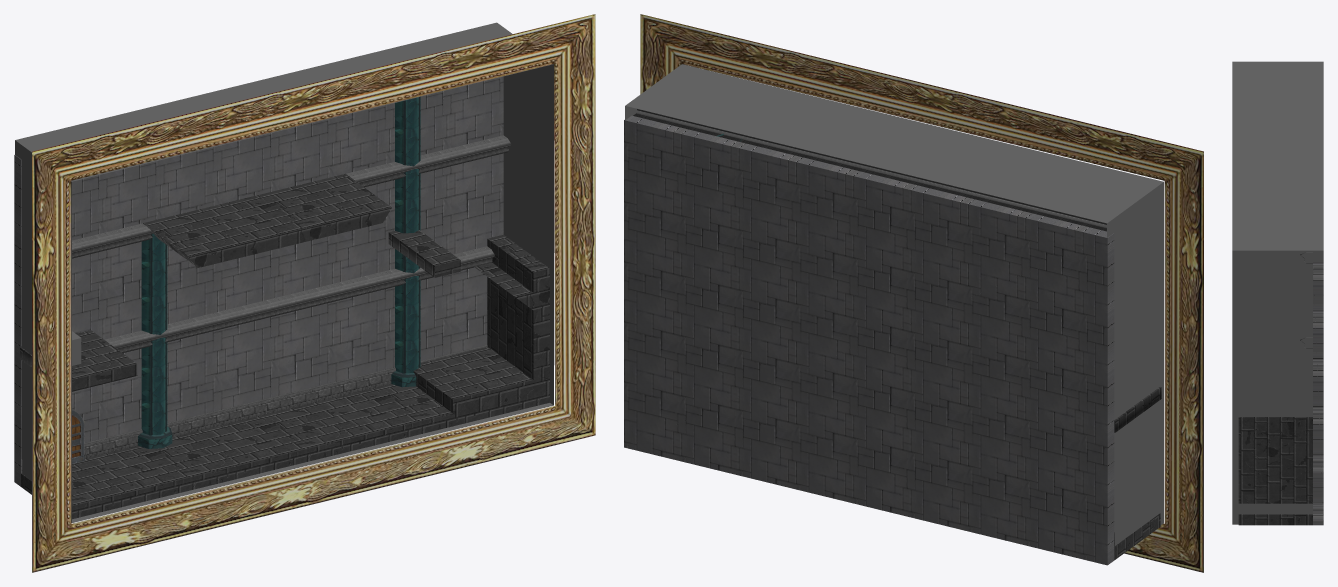
Rendered from Sixth_Room.FBX.
3 views of the same model, side by side, from view 1: azimuth 30°, elevation 25°; view 2: azimuth 150°, elevation 25°; view 3: azimuth 270°, elevation 25° (orthographic). The views are drawn at different scales.
Parts seen in each view (by area): view 1: Sixth_Room, polySurface256, polySurface479, polySurface478, polySurface477, polySurface482, polySurface480; view 2: Sixth_Room, polySurface256, polySurface481; view 3: polySurface256, Sixth_Room.
Part boxes in pixels (<box>): Sixth_Room: <box>14,14,595,572</box>; polySurface256: <box>15,22,553,522</box>; polySurface479: <box>104,246,494,352</box>; polySurface478: <box>395,96,420,373</box>; polySurface477: <box>141,233,167,435</box>; polySurface482: <box>21,345,487,473</box>; polySurface480: <box>72,135,511,258</box>; Sixth_Room: <box>624,14,1203,572</box>; polySurface256: <box>625,64,1163,545</box>; polySurface481: <box>633,109,1106,231</box>; polySurface256: <box>1232,61,1323,524</box>; Sixth_Room: <box>1238,262,1323,525</box>.
Bounding box in the file's own units: 49.14 × 35.12 × 8.6.
